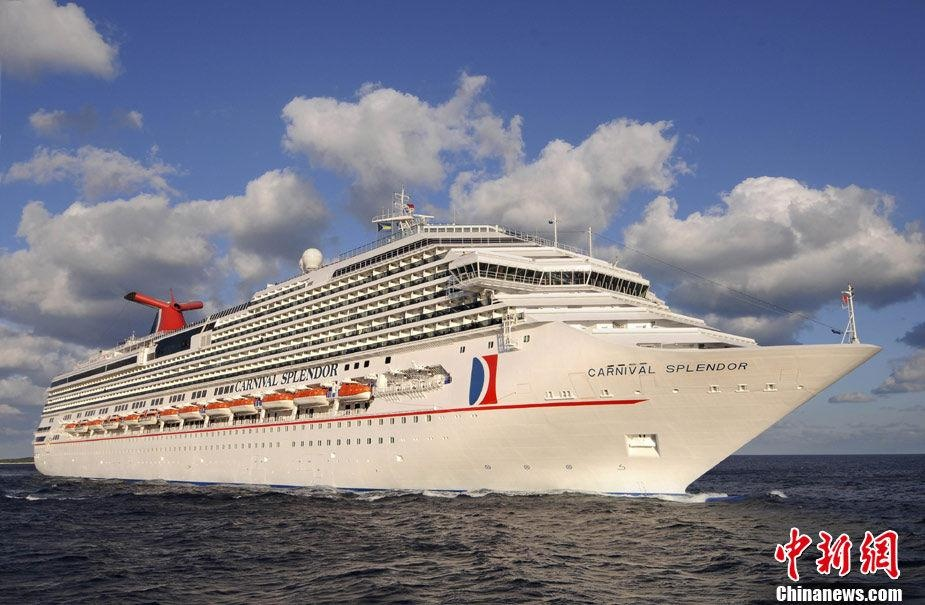youlun: (22, 190, 880, 487)
